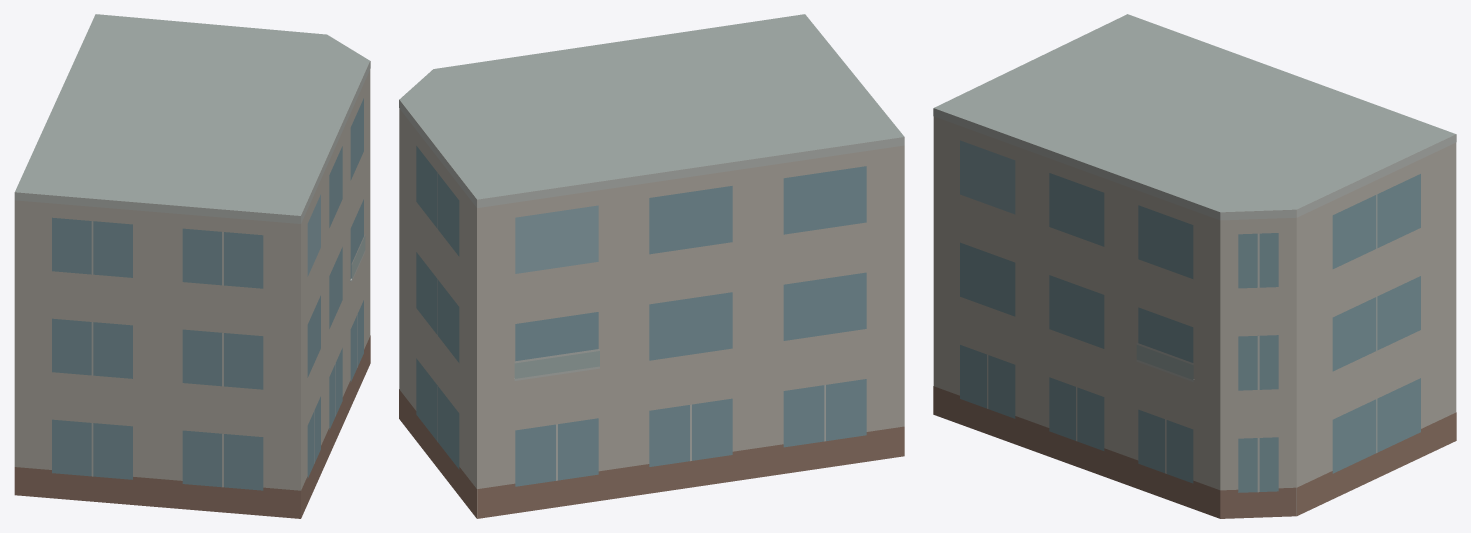
The model's file is survey-upis-32985993.glb.
The picture shows the model from 3 angles, left to right: view 1: azimuth 30°, elevation 25°; view 2: azimuth 150°, elevation 25°; view 3: azimuth 270°, elevation 25°; orthographic projection. The views are drawn at different scales.
Parts seen in each view (by area): view 1: survey-upis-32985993.tmp; view 2: survey-upis-32985993.tmp; view 3: survey-upis-32985993.tmp.
Part boxes in pixels (x1,y1,x2,y2): survey-upis-32985993.tmp: (14, 14, 370, 518); survey-upis-32985993.tmp: (399, 14, 904, 518); survey-upis-32985993.tmp: (933, 14, 1456, 518).
Bounding box in the file's own units: 12.7 × 9.15 × 14.15.
